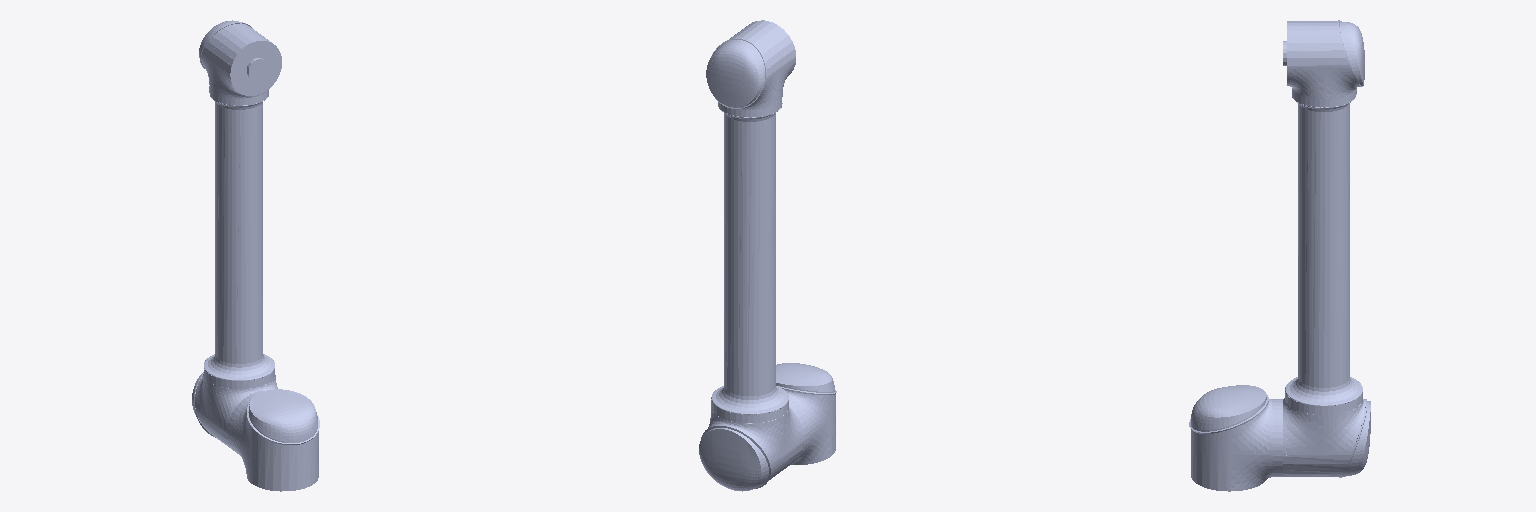
URDF robot description (gcr16_2000):
<?xml version="1.0" encoding="utf-8"?>
<!-- This URDF was automatically created by SolidWorks to URDF Exporter! Originally created by [author] ([email redacted]) 
     Commit Version: 1.6.0-4-g7f85cfe  Build Version: 1.6.7995.38578
     For more information, please see http://wiki.ros.org/sw_urdf_exporter -->
<robot
  name="gcr16_2000">
  <link
    name="base_link">
    <inertial>
      <origin
        xyz="1.0276E-05 0.014119 0.064841"
        rpy="0 0 0" />
      <mass
        value="0" />
      <inertia
        ixx="0.0"
        ixy="0.0"
        ixz="0.0"
        iyy="0.0"
        iyz="0.0"
        izz="0.0" />
    </inertial>
    <visual>
      <origin
        xyz="0 0 0"
        rpy="0 0 0" />
      <geometry>
        <mesh
          filename="package://duco_support/meshes/GCR16_2000/base_link.stl" />
      </geometry>
      <material
        name="">
        <color
          rgba="0.73333 0.78039 0.83922 1" />
      </material>
    </visual>
    <collision>
      <origin
        xyz="0 0 0"
        rpy="0 0 0" />
      <geometry>
        <mesh
          filename="package://duco_support/meshes/GCR16_2000/base_link.stl" />
      </geometry>
    </collision>
  </link>
  <link
    name="link_1">
    <inertial>
      <origin
        xyz="0.000021 0.004967 -0.01790"
        rpy="0 0 0" />
      <mass
        value="4.657" />
      <inertia
        ixx="1.0752E-05"
        ixy="7.523E-09"
        ixz="1.0743E-08"
        iyy="1.0133197E-05"
        iyz="4.49349E-07"
        izz="7.870754E-05" />
    </inertial>
    <visual>
      <origin
        xyz="0 0 0"
        rpy="0 0 0" />
      <geometry>
        <mesh
          filename="package://duco_support/meshes/GCR16_2000/link_1.stl" />
      </geometry>
      <material
        name="">
        <color
          rgba="0.79216 0.81961 0.93333 1" />
      </material>
    </visual>
    <collision>
      <origin
        xyz="0 0 0"
        rpy="0 0 0" />
      <geometry>
        <mesh
          filename="package://duco_support/meshes/GCR16_2000/link_1.stl" />
      </geometry>
    </collision>
  </link>
  <joint
    name="arm_1_joint_1"
    type="revolute">
    <origin
      xyz="0 0 0.235"
      rpy="0 0 0" />
    <parent
      link="base_link" />
    <child
      link="link_1" />
    <axis
      xyz="0 0 1" />
    <limit
      lower="-3.1415926535"
      upper="3.1415926535"
      effort="850"
      velocity="2.094395102" />
  </joint>

  <link
    name="link_2">
    <inertial>
      <origin
        xyz="1.102E-07 0.020908 0.00079543"
        rpy="0 0 0" />
      <mass
        value="12.162" />
      <inertia
        ixx="0.067005"
        ixy="3.4805E-07"
        ixz="2.7185E-07"
        iyy="0.067506"
        iyz="-0.0064954"
        izz="0.071423" />
    </inertial>
    <visual>
      <origin
        xyz="0 0 0"
        rpy="0 0 0" />
      <geometry>
        <mesh
          filename="package://duco_support/meshes/GCR16_2000/link_2.stl" />
      </geometry>
      <material
        name="">
        <color
          rgba="0.79216 0.81961 0.93333 1" />
      </material>
    </visual>
    <collision>
      <origin
        xyz="0 0 0"
        rpy="0 0 0" />
      <geometry>
        <mesh
          filename="package://duco_support/meshes/GCR16_2000/link_2.stl" />
      </geometry>
    </collision>
  </link>
  <joint
    name="arm_1_joint_2"
    type="revolute">
    <origin
      xyz="0 0.1608 0"
      rpy="1.5708 -1.5708 3.1416" />
    <parent
      link="link_1" />
    <child
      link="link_2" />
    <axis
      xyz="0 0 1" />
    <limit
      lower="-3.1415926"
      upper="3.1415926"
      effort="850"
      velocity="2.094395102" />
  </joint>
  <link
    name="link_3">
    <inertial>
      <origin
        xyz="0.31434 -1.0432E-06 -0.11596"
        rpy="0 0 0" />
      <mass
        value="6.787" />
      <inertia
        ixx="0.029837"
        ixy="6.3415E-06"
        ixz="-0.00036881"
        iyy="0.71686"
        iyz="-4.683E-07"
        izz="0.71691" />
    </inertial>
    <visual>
      <origin
        xyz="0 0 0"
        rpy="0 0 0" />
      <geometry>
        <mesh
          filename="package://duco_support/meshes/GCR16_2000/link_3.stl" />
      </geometry>
      <material
        name="">
        <color
          rgba="0.86667 0.86667 0.8902 1" />
      </material>
    </visual>
    <collision>
      <origin
        xyz="0 0 0"
        rpy="0 0 0" />
      <geometry>
        <mesh
          filename="package://duco_support/meshes/GCR16_2000/link_3.stl" />
      </geometry>
    </collision>
  </link>
  <joint
    name="arm_1_joint_3"
    type="revolute">
    <origin
      xyz="0.9775 0 0"
      rpy="0 0 0" />
    <parent
      link="link_2" />
    <child
      link="link_3" />
    <axis
      xyz="0 0 1" />
    <limit
      lower="-3.1415926"
      upper="3.1415926"
      effort="440"
      velocity="3.1415926535" />
  </joint>
  <link
    name="link_4">
    <inertial>
      <origin
        xyz="1.2372E-05 -0.014753 -0.0001724"
        rpy="0 0 0" />
      <mass
        value="2.453" />
      <inertia
        ixx="0.001367"
        ixy="-1.1419E-07"
        ixz="-2.6082E-08"
        iyy="0.00054941"
        iyz="-2.3461E-05"
        izz="0.0013257" />
    </inertial>
    <visual>
      <origin
        xyz="0 0 0"
        rpy="0 0 0" />
      <geometry>
        <mesh
          filename="package://duco_support/meshes/GCR16_2000/link_4.stl" />
      </geometry>
      <material
        name="">
        <color
          rgba="0.86667 0.86667 0.8902 1" />
      </material>
    </visual>
    <collision>
      <origin
        xyz="0 0 0"
        rpy="0 0 0" />
      <geometry>
        <mesh
          filename="package://duco_support/meshes/GCR16_2000/link_4.stl" />
      </geometry>
    </collision>
  </link>
  <joint
    name="arm_1_joint_4"
    type="revolute">
    <origin
      xyz="0.8965 0 0"
      rpy="0 0 1.5708" />
    <parent
      link="link_3" />
    <child
      link="link_4" />
    <axis
      xyz="0 0 1" />
    <limit
      lower="-3.1415926"
      upper="3.1415926"
      effort="75"
      velocity="3.926990817" />
  </joint>
  <link
    name="link_5">
    <inertial>
      <origin
        xyz="-1.2211E-05 0.014754 -0.00017351"
        rpy="0 0 0" />
      <mass
        value="2.453" />
      <inertia
        ixx="0.001367"
        ixy="-1.1551E-07"
        ixz="2.5518E-08"
        iyy="0.00054941"
        iyz="2.3461E-05"
        izz="0.0013257" />
    </inertial>
    <visual>
      <origin
        xyz="0 0 0"
        rpy="0 0 0" />
      <geometry>
        <mesh
          filename="package://duco_support/meshes/GCR16_2000/link_5.stl" />
      </geometry>
      <material
        name="">
        <color
          rgba="0.86667 0.86667 0.8902 1" />
      </material>
    </visual>
    <collision>
      <origin
        xyz="0 0 0"
        rpy="0 0 0" />
      <geometry>
        <mesh
          filename="package://duco_support/meshes/GCR16_2000/link_5.stl" />
      </geometry>
    </collision>
  </link>
  <joint
    name="arm_1_joint_5"
    type="revolute">
    <origin
      xyz="0 -0.126 0"
      rpy="1.5708 0 0" />
    <parent
      link="link_4" />
    <child
      link="link_5" />
    <axis
      xyz="0 0 1" />
    <limit
      lower="-3.1415926"
      upper="3.1415926"
      effort="75"
      velocity="3.926990817" />
  </joint>
  <link
    name="link_6">
    <inertial>
      <origin
        xyz="-5.2419E-07 0.00029705 -0.025541"
        rpy="0 0 0" />
      <mass
        value="2.453" />
      <inertia
        ixx="3.517E-05"
        ixy="7.061E-10"
        ixz="7.5214E-11"
        iyy="3.4071E-05"
        iyz="-5.7792E-08"
        izz="6.3885E-05" />
    </inertial>
    <visual>
      <origin
        xyz="0 0 0"
        rpy="0 0 0" />
      <geometry>
        <mesh
          filename="package://duco_support/meshes/GCR16_2000/link_6.stl" />
      </geometry>
      <material
        name="">
        <color
          rgba="0 0 0 1" />
      </material>
    </visual>
    <collision>
      <origin
        xyz="0 0 0"
        rpy="0 0 0" />
      <geometry>
        <mesh
          filename="package://duco_support/meshes/GCR16_2000/link_6.stl" />
      </geometry>
    </collision>
  </link>
  <joint
    name="arm_1_joint_6"
    type="revolute">
    <origin
      xyz="0 0.113 0"
      rpy="-1.5708 0 0" />
    <parent
      link="link_5" />
    <child
      link="link_6" />
    <axis
      xyz="0 0 1" />
    <limit
      lower="-3.1415926"
      upper="3.1415926"
      effort="75"
      velocity="3.926990817" />
  </joint>
</robot>

--- What the picture shows (computed from the rendered views, not written in the file) ---
3 views of the same robot in one strip: view 1: azimuth 30°, elevation 25°; view 2: azimuth 150°, elevation 25°; view 3: azimuth 270°, elevation 25° (orthographic).
Model gcr16_2000 with 7 links and 6 joints (6 revolute), rooted at base_link, posed every joint at zero.
Visible links, largest first — view 1: link_2, link_1; view 2: link_2, link_1; view 3: link_2, link_1.
Boxes of the visible links, box(x1,y1,x2,y2) form: link_2: box(192, 20, 281, 450); link_1: box(227, 389, 319, 491); link_2: box(699, 20, 803, 491); link_1: box(776, 363, 836, 464); link_2: box(1283, 20, 1370, 477); link_1: box(1189, 385, 1282, 491).
Bounding box of the posed robot: 0.1833 × 0.4192 × 1.16 m (x, y, z).
Meshes: 7 distinct files referenced, 2 mesh visuals loaded (2 binary STL); not drawn: 5 (reference not matched to a file when rendering).